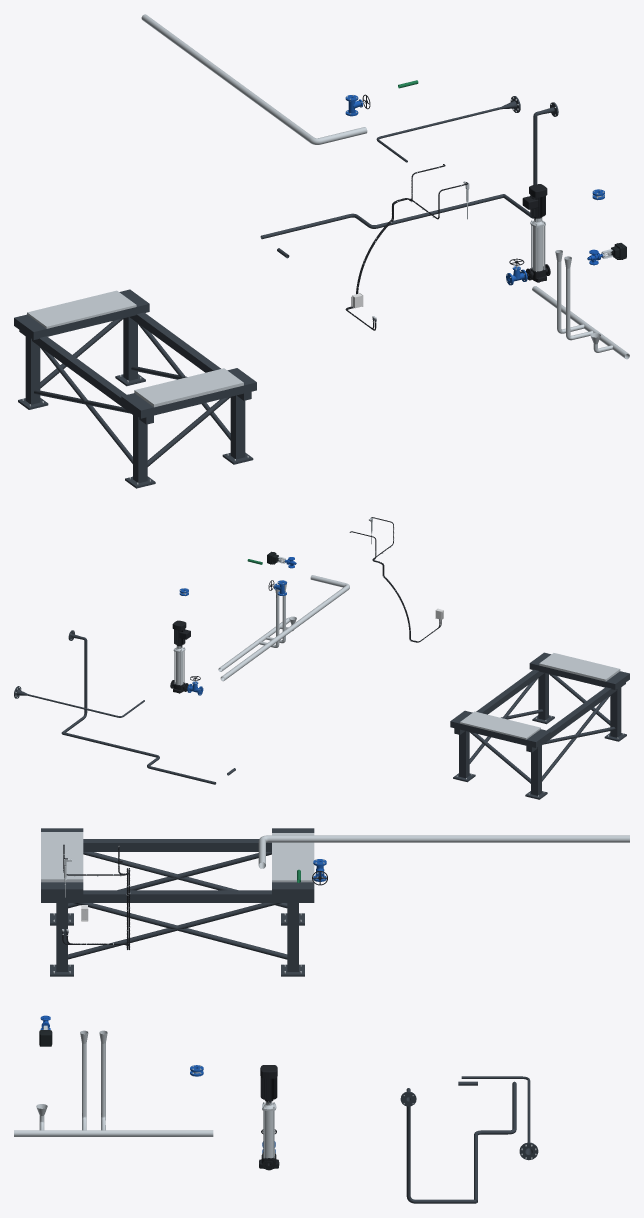
Rendered from s4000-7-Dpb-mxGm.glb.
3 renders of one model, top to bottom at view 1: azimuth 30°, elevation 25°; view 2: azimuth 150°, elevation 25°; view 3: azimuth 270°, elevation 25°, orthographic. The views are drawn at different scales.
Visible parts, largest first — view 1: deaerator_support / dark, deaerator_support / steel, safety_vent_1 / steel, local_open_drains / steel, bottom_discharge / dark, bottom_to_bdv / dark, tds_to_fv / dark; view 2: deaerator_support / dark, deaerator_support / steel, safety_vent_1 / steel, local_open_drains / steel, bottom_discharge / dark, bottom_to_bdv / dark, tds_to_fv / dark; view 3: deaerator_support / dark, deaerator_support / steel, safety_vent_1 / steel, local_open_drains / steel, bottom_to_bdv / dark, tds_to_fv / dark, bottom_discharge / dark, pump_2 CAD solid 15.
Part boxes in pixels (bbox=[...]): deaerator_support / dark: bbox=[14, 289, 256, 488]; deaerator_support / steel: bbox=[22, 290, 248, 484]; safety_vent_1 / steel: bbox=[141, 14, 367, 144]; local_open_drains / steel: bbox=[532, 250, 629, 359]; bottom_discharge / dark: bbox=[260, 194, 503, 239]; bottom_to_bdv / dark: bbox=[503, 102, 558, 218]; tds_to_fv / dark: bbox=[376, 96, 520, 162]; deaerator_support / dark: bbox=[450, 652, 629, 799]; deaerator_support / steel: bbox=[456, 653, 623, 796]; safety_vent_1 / steel: bbox=[220, 575, 349, 681]; local_open_drains / steel: bbox=[218, 582, 296, 671]; bottom_discharge / dark: bbox=[62, 732, 216, 784]; bottom_to_bdv / dark: bbox=[61, 630, 87, 733]; tds_to_fv / dark: bbox=[14, 686, 144, 717]; deaerator_support / dark: bbox=[41, 828, 314, 976]; deaerator_support / steel: bbox=[41, 832, 314, 973]; safety_vent_1 / steel: bbox=[258, 835, 629, 868]; local_open_drains / steel: bbox=[14, 1030, 213, 1136]; bottom_to_bdv / dark: bbox=[400, 1088, 475, 1203]; tds_to_fv / dark: bbox=[461, 1076, 538, 1160]; bottom_discharge / dark: bbox=[474, 1081, 516, 1203]; pump_2 CAD solid 15: bbox=[260, 1065, 277, 1100].
Bounding box in the file's own units: 7.79 × 2.8 × 6.4.
